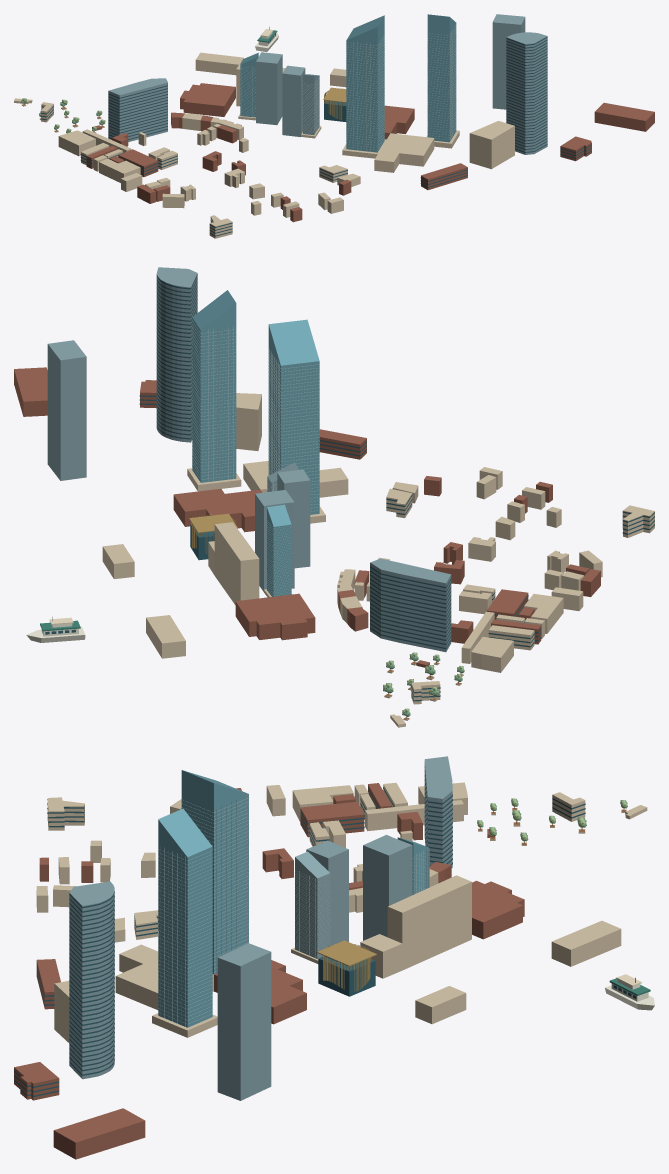
3 renders of one model, top to bottom at view 1: azimuth 30°, elevation 25°; view 2: azimuth 150°, elevation 25°; view 3: azimuth 270°, elevation 25°, orthographic. The views are drawn at different scales.
Visible parts, largest first — view 1: bfc-s2.001, osm-way-206160228, bfc-s1.001, osm-way-250067019, osm-way-447024802, osm-way-447024800, osm-way-142741996, osm-way-520214806, osm-way-520214802, osm-way-447024814, osm-way-745677072, bfc-north.001 (+12 smaller); view 2: bfc-s1.001, bfc-s2.001, osm-way-206160228, osm-way-250067019, osm-way-142741996, osm-way-520214802, osm-way-447024815, osm-way-520214805, bfc-n2.001, osm-way-447024814, osm-way-447024802, osm-way-745677072 (+13 smaller); view 3: bfc-s1.001, osm-way-206160228, osm-way-142741996, bfc-s2.001, osm-way-447024815, osm-way-447024802, bfc-north.001, osm-way-745677072, osm-way-250067019, fosun-art-center.001, osm-way-520214802, osm-way-447024814 (+17 smaller).
Boxes of the visible parts, x1,y1,x2,y2 form: bfc-s2.001: (342, 15, 386, 158); osm-way-206160228: (506, 32, 547, 154); bfc-s1.001: (426, 14, 459, 148); osm-way-250067019: (108, 78, 167, 141); osm-way-447024802: (256, 52, 282, 125); osm-way-447024800: (469, 121, 514, 169); osm-way-142741996: (492, 14, 525, 109); osm-way-520214806: (374, 133, 434, 172); osm-way-520214802: (180, 83, 235, 116); osm-way-447024814: (282, 65, 305, 137); osm-way-745677072: (594, 102, 654, 131); bfc-north.001: (301, 74, 321, 138); bfc-s1.001: (187, 290, 241, 491); bfc-s2.001: (268, 319, 325, 523); osm-way-206160228: (156, 267, 197, 442); osm-way-250067019: (370, 558, 451, 652); osm-way-142741996: (47, 340, 86, 480); osm-way-520214802: (235, 593, 315, 640); osm-way-447024815: (214, 522, 259, 605); osm-way-520214805: (173, 488, 262, 532); bfc-n2.001: (264, 504, 292, 597); osm-way-447024814: (277, 469, 310, 568); osm-way-447024802: (255, 490, 294, 591); osm-way-745677072: (14, 367, 47, 416); bfc-s1.001: (152, 808, 217, 1037); osm-way-206160228: (69, 881, 114, 1079); osm-way-142741996: (217, 943, 271, 1100); bfc-s2.001: (181, 770, 248, 974); osm-way-447024815: (387, 875, 471, 970); osm-way-447024802: (363, 834, 412, 940); bfc-north.001: (291, 851, 330, 963); osm-way-745677072: (53, 1108, 145, 1159); osm-way-250067019: (424, 756, 452, 867); fosun-art-center.001: (317, 940, 376, 996); osm-way-520214802: (472, 880, 524, 939); osm-way-447024814: (306, 840, 348, 945).
Bounding box in the file's own units: 682 × 180 × 513.
